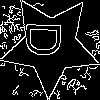D: (26, 20, 71, 59)
